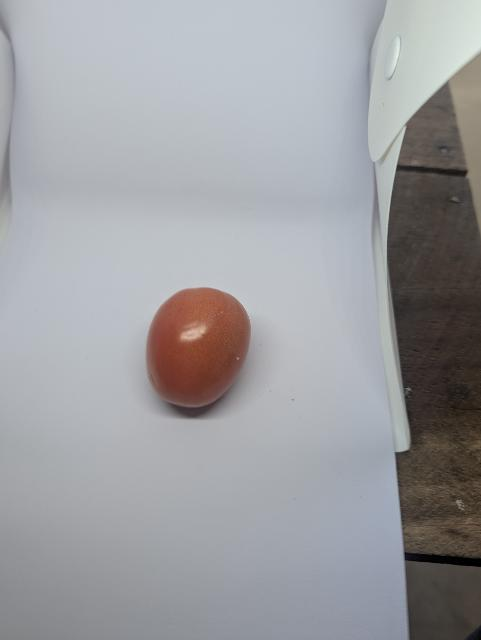red: (138, 280, 262, 419)
